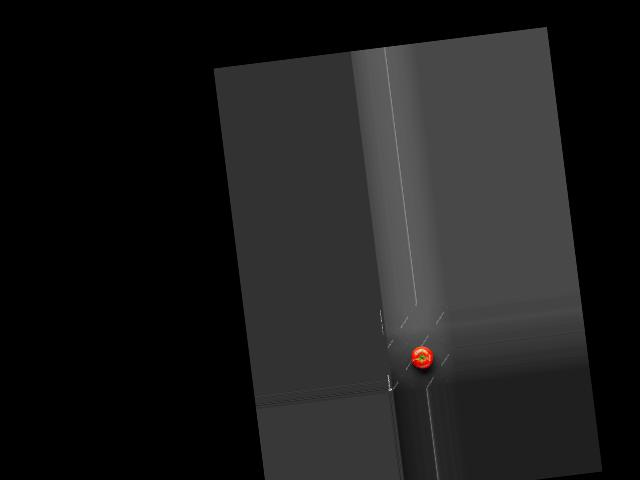tomato: (409, 344, 434, 369)
